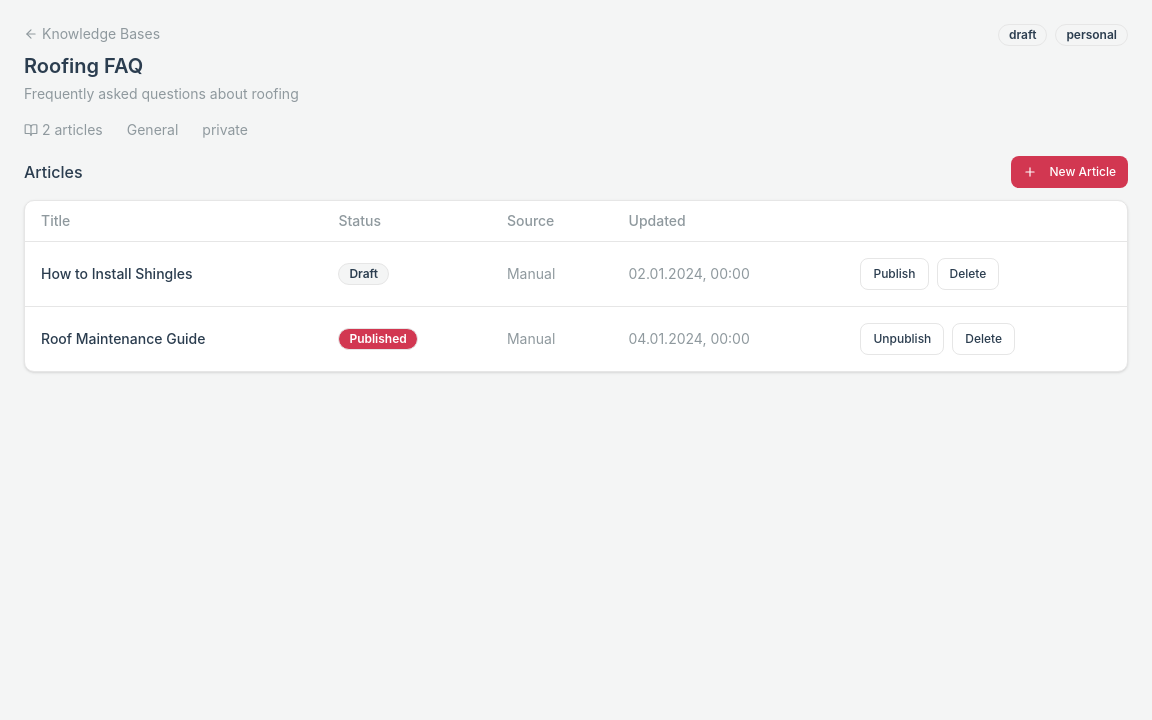
Test: KnowledgeBaseDetailPage › shows kb-article-create-error when createArticleMutation.isError is true
The width and height of the screenshot is (1152, 720).
Click the button with test id "kb-article-create-button" at [1070, 172], box [1012,156,1128,188]
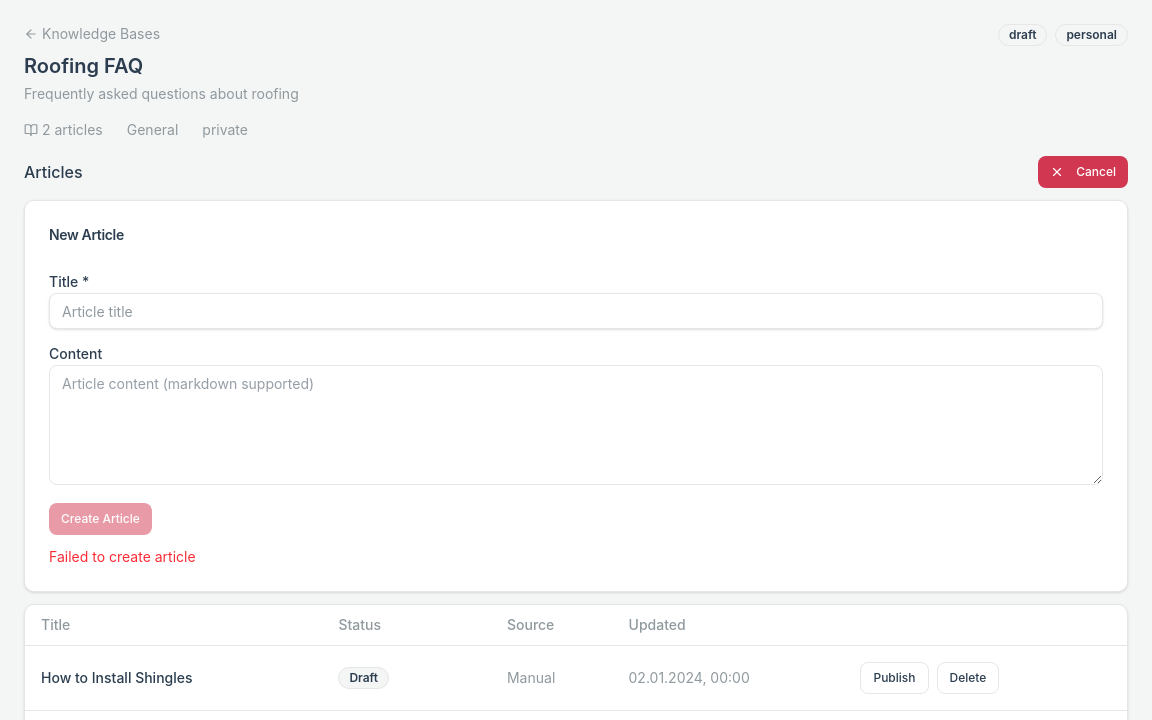
Expected: the text with test id "kb-article-create-error" reads "Failed to create article", [49,548,196,565]
